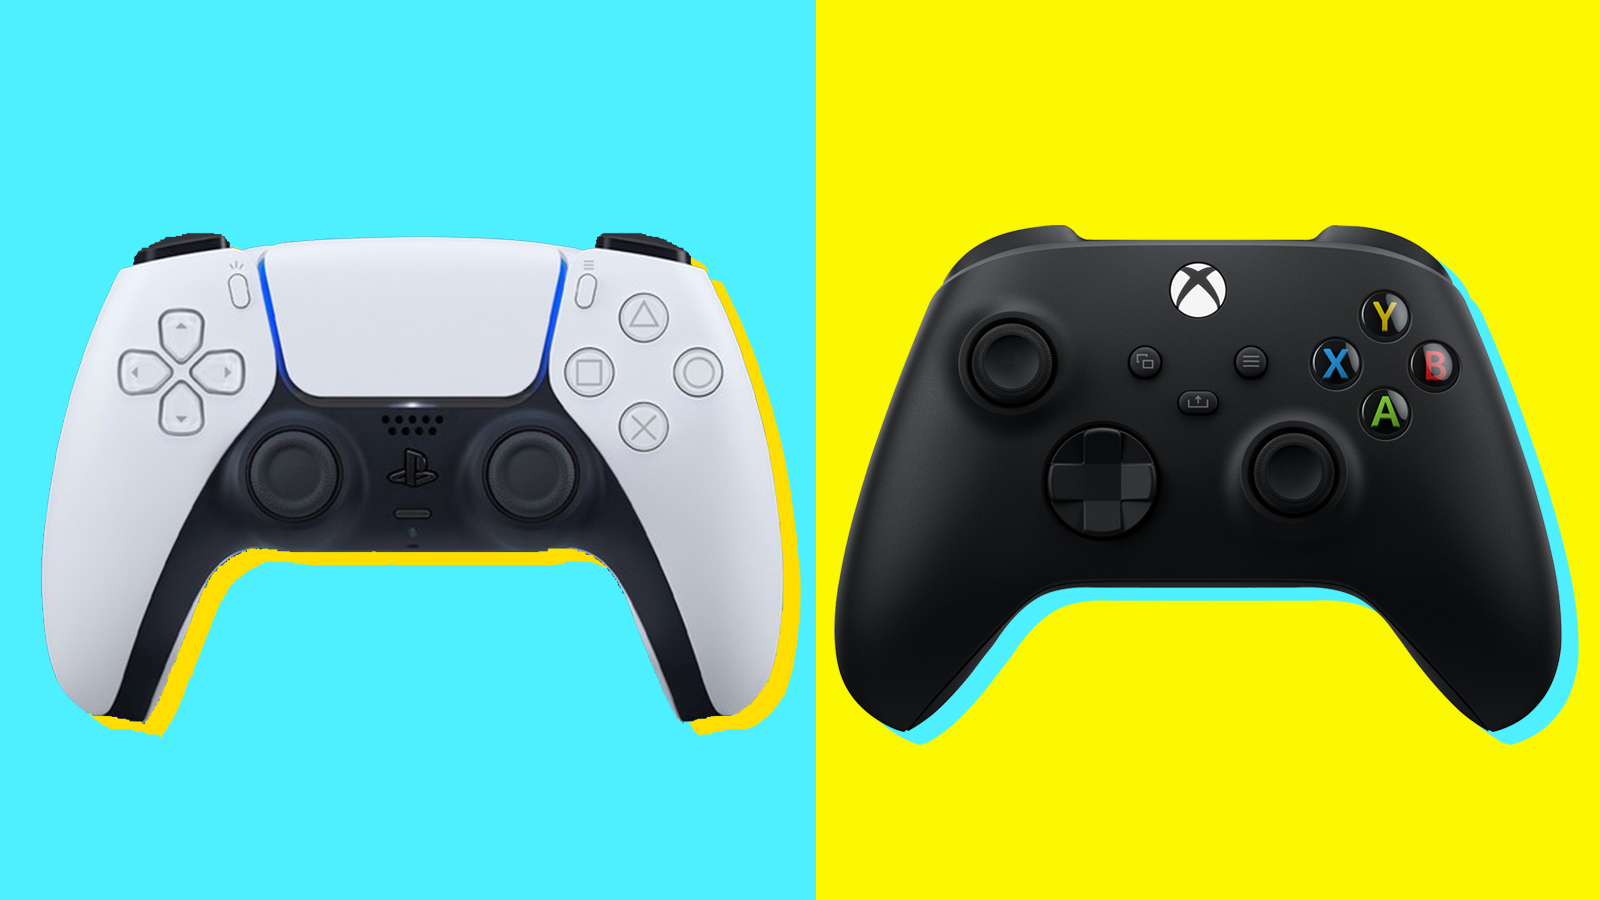controller: (834, 223, 1563, 732), (38, 230, 779, 724)
